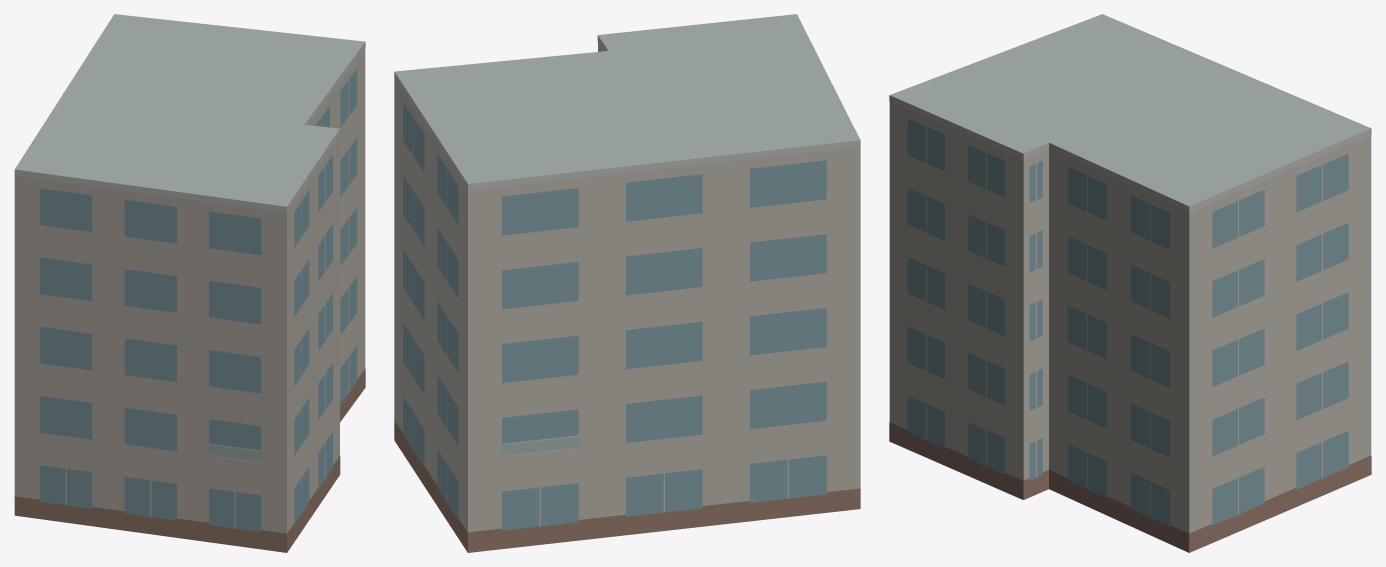
Rendered from survey-upis-33036423.glb.
The picture shows the model from 3 angles, left to right: view 1: azimuth 30°, elevation 25°; view 2: azimuth 150°, elevation 25°; view 3: azimuth 270°, elevation 25°; orthographic projection. The views are drawn at different scales.
Parts seen in each view (by area): view 1: survey-upis-33036423.tmp; view 2: survey-upis-33036423.tmp; view 3: survey-upis-33036423.tmp.
Boxes of the visible parts, <box> form: survey-upis-33036423.tmp: <box>14,14,365,552</box>; survey-upis-33036423.tmp: <box>394,14,860,552</box>; survey-upis-33036423.tmp: <box>889,14,1371,552</box>.
Size of the model in its own units: 15.98 by 13.4 by 16.9.
